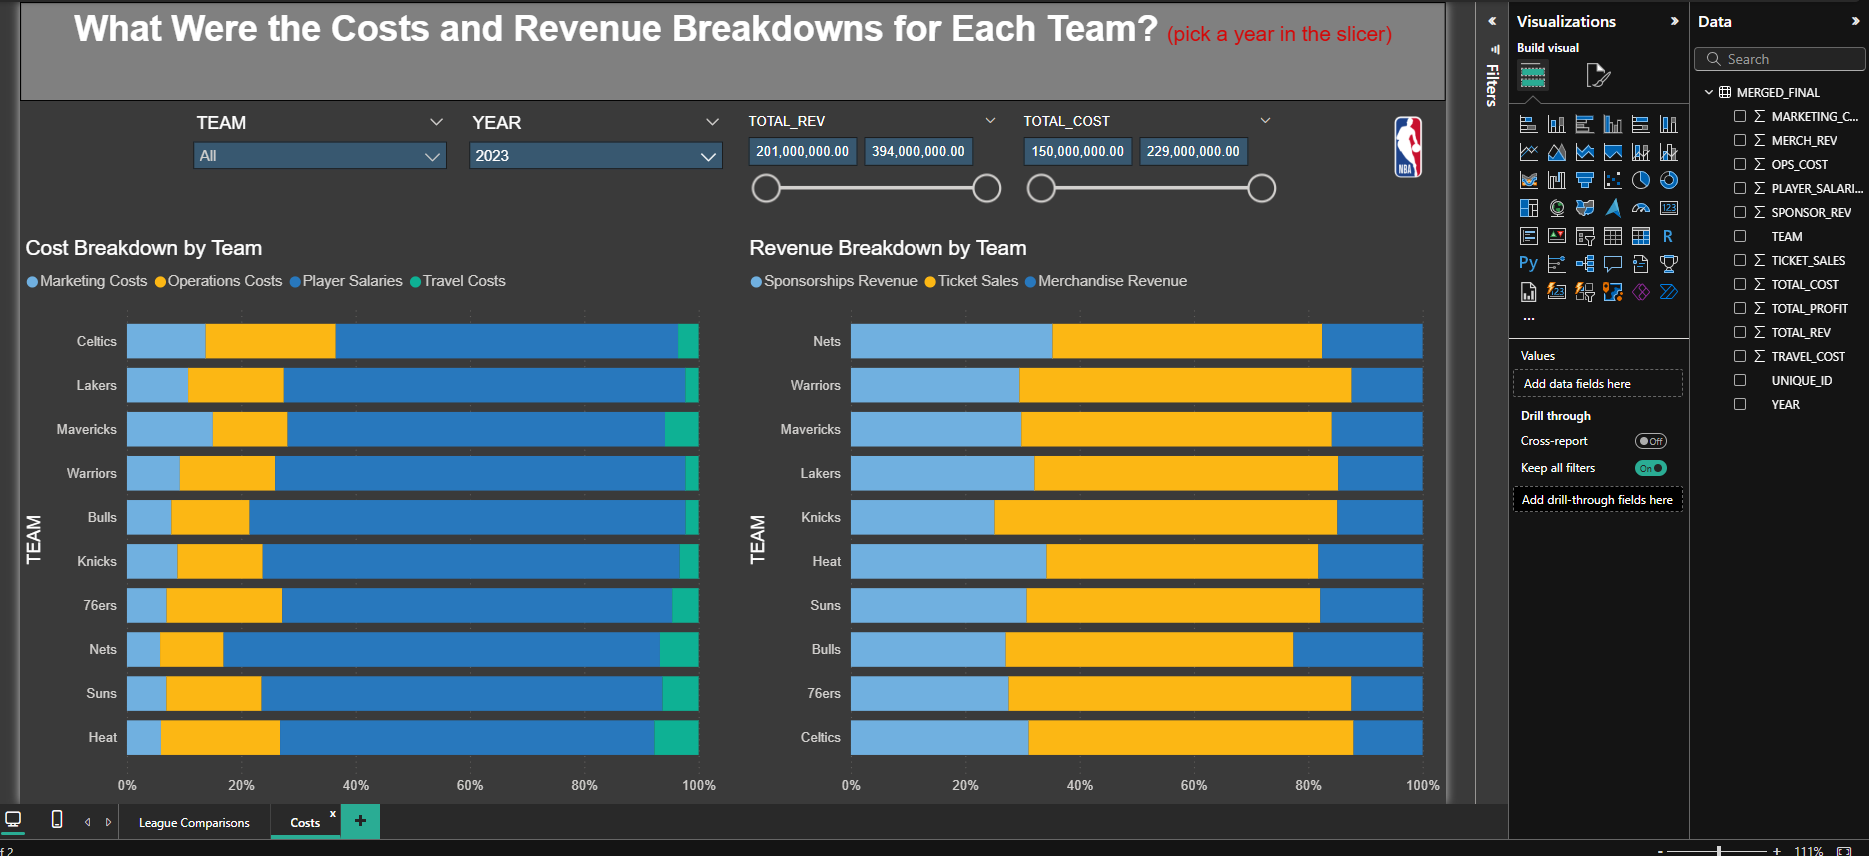

This screenshot's page, from the dashboard's own definition file:
{"tool":"powerbi","page":{"name":"Costs","canvas":[1280,720],"ordinal":1},"visuals":[{"type":"hundredPercentStackedBarChart","title":"Cost Breakdown by Team","fields":{"Category":["MERGED_FINAL.TEAM"],"Y":["Sum(MERGED_FINAL.MARKETING_COST)","Sum(MERGED_FINAL.OPS_COST)","Sum(MERGED_FINAL.PLAYER_SALARIES)","Sum(MERGED_FINAL.TRAVEL_COST)"]},"box":[0,210.4,630.2,509.6],"z":0},{"type":"hundredPercentStackedBarChart","title":"Revenue Breakdown by Team","fields":{"Category":["MERGED_FINAL.TEAM"],"Y":["Sum(MERGED_FINAL.SPONSOR_REV)","Sum(MERGED_FINAL.TICKET_SALES)","Sum(MERGED_FINAL.MERCH_REV)"]},"box":[650.2,210.4,630.2,509.6],"z":2},{"type":"slicer","fields":{"Values":["MERGED_FINAL.TEAM"]},"box":[145.1,95.2,247.6,115.2],"z":3,"group":"g1"},{"type":"slicer","fields":{"Values":["MERGED_FINAL.YEAR"]},"box":[392.7,95.2,247.6,115.2],"z":4,"group":"g1"},{"type":"slicer","fields":{"Values":["MERGED_FINAL.TOTAL_REV"]},"box":[640.2,95.2,247.6,115.2],"z":5,"group":"g1"},{"type":"slicer","fields":{"Values":["MERGED_FINAL.TOTAL_COST"]},"box":[887.8,95.2,247.6,115.2],"z":6,"group":"g1"},{"type":"group","id":"g1","title":"Group 1","box":[145.1,95.2,990.2,115.2],"z":7},{"type":"textbox","box":[0,0,1280.4,88.9],"z":8},{"type":"image","box":[1212.9,95.2,67.3,70],"z":9}]}

Visuals, with their boxes on the page's 1280x720 design canvas (x1, y1, x2, y2). These are canvas units, not pixel positions in the 1869x856 screenshot, which may show the page scaled, cropped or inside an application window:
"Cost Breakdown by Team" hundredPercentStackedBarChart: detection(0, 210, 630, 720)
"Revenue Breakdown by Team" hundredPercentStackedBarChart: detection(650, 210, 1280, 720)
slicer - MERGED_FINAL.TEAM: detection(145, 95, 393, 210)
slicer - MERGED_FINAL.YEAR: detection(393, 95, 640, 210)
slicer - MERGED_FINAL.TOTAL_REV: detection(640, 95, 888, 210)
slicer - MERGED_FINAL.TOTAL_COST: detection(888, 95, 1135, 210)
"Group 1" group: detection(145, 95, 1135, 210)
textbox: detection(0, 0, 1280, 89)
image: detection(1213, 95, 1280, 165)
